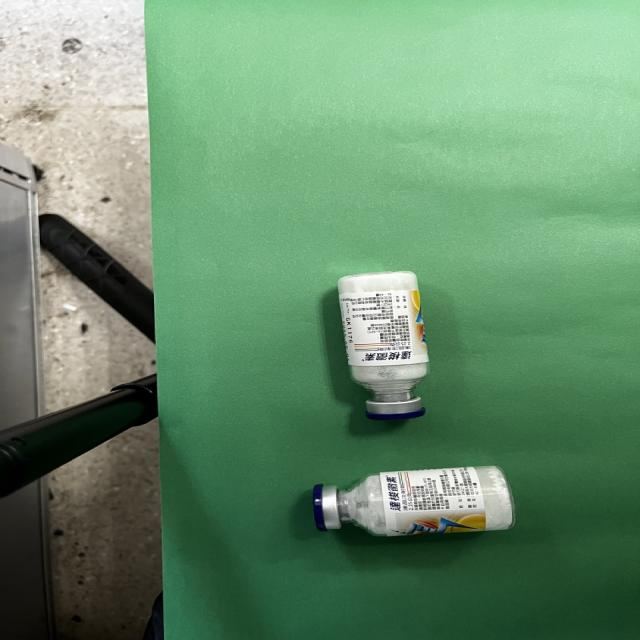Vials: (312, 466, 514, 536), (338, 272, 429, 420)
